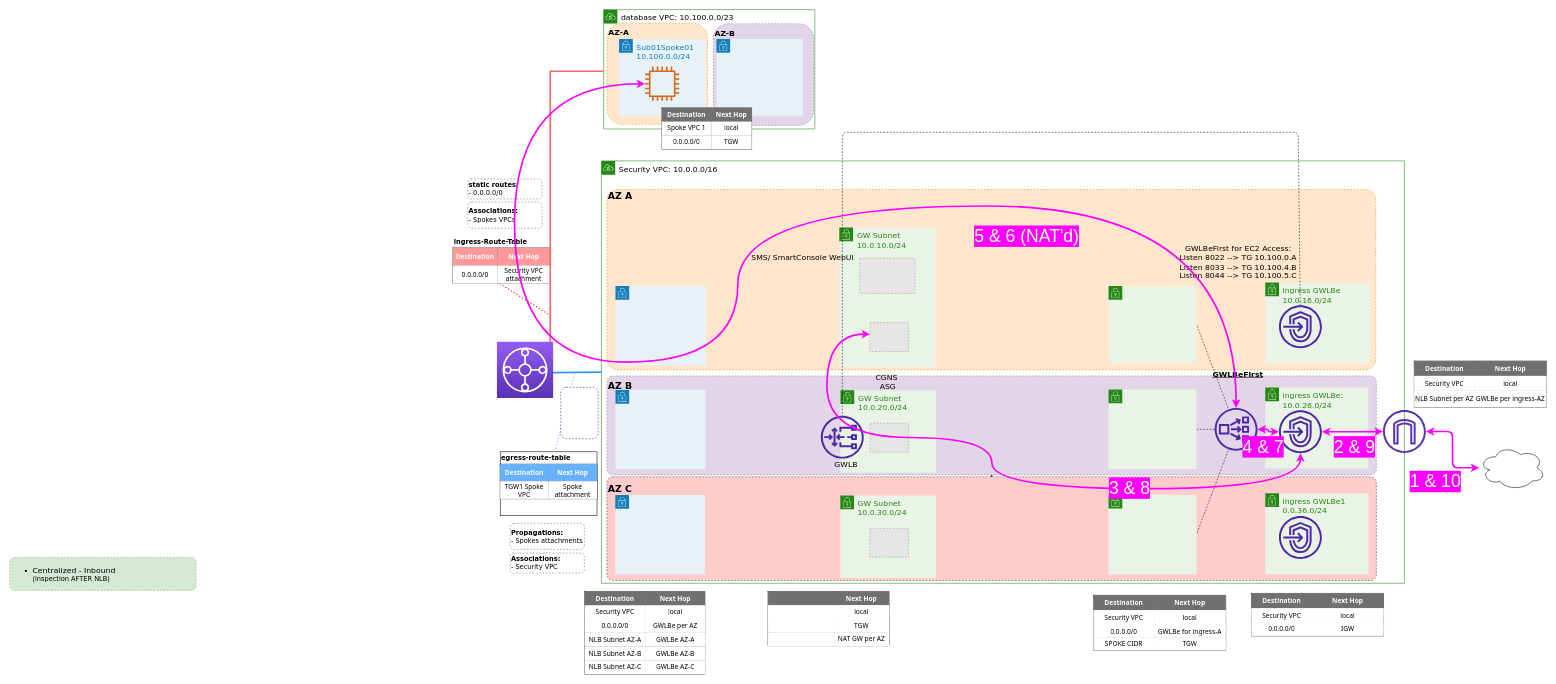
Image size: 1556x684. Some labels were removed from this diagram. Grey dashed boxes stand in for pictures. Here are the shapes that lost their labels. From the top down, the centre of each, then its label:
At point 662,83: "EC2".
At point 759,77: "Sub02Spoke01 10.100.1.0/24".
At point 660,325: "TGW attachment subnet 10.0.12.0/24".
At point 1152,324: "NLB Subnet 10.0.15.0/24".
At point 579,413: "TGW Appliance Mode".
At point 660,429: "TGW attachment subnet 10.0.22.0/24".
At point 1152,429: "NLB Subnet 10.0.25.0/24".
At point 660,534: "TGW attachment subnet 10.0.32.0/24".
At point 1152,534: "NLB Subnet 10.0.35.0/24".
